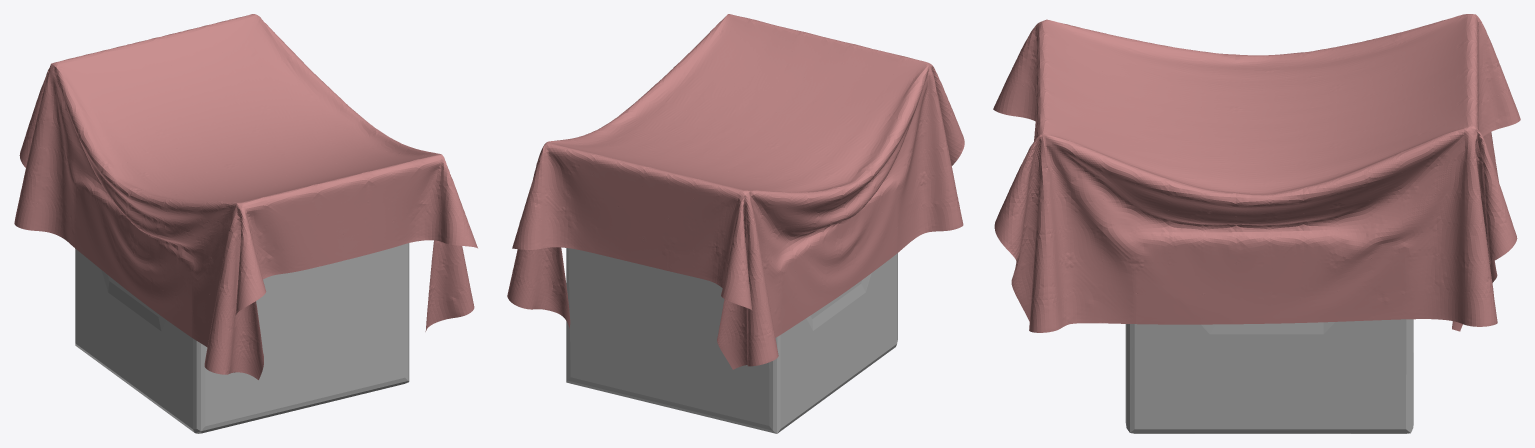
Rendered from level_4.glb.
3 views of the same model, side by side, from view 1: azimuth 30°, elevation 25°; view 2: azimuth 150°, elevation 25°; view 3: azimuth 270°, elevation 25° (orthographic). The views are drawn at different scales.
Parts seen in each view (by area): view 1: world, object.obj; view 2: world, object.obj; view 3: world, object.obj.
Part boxes in pixels (x1,y1,x2,y2): world: (14, 14, 477, 379); object.obj: (75, 243, 409, 433); world: (507, 14, 964, 369); object.obj: (566, 248, 897, 433); world: (993, 14, 1520, 332); object.obj: (1125, 319, 1413, 433).
Size of the model in its own units: 0.3158 by 0.2959 by 0.463.
